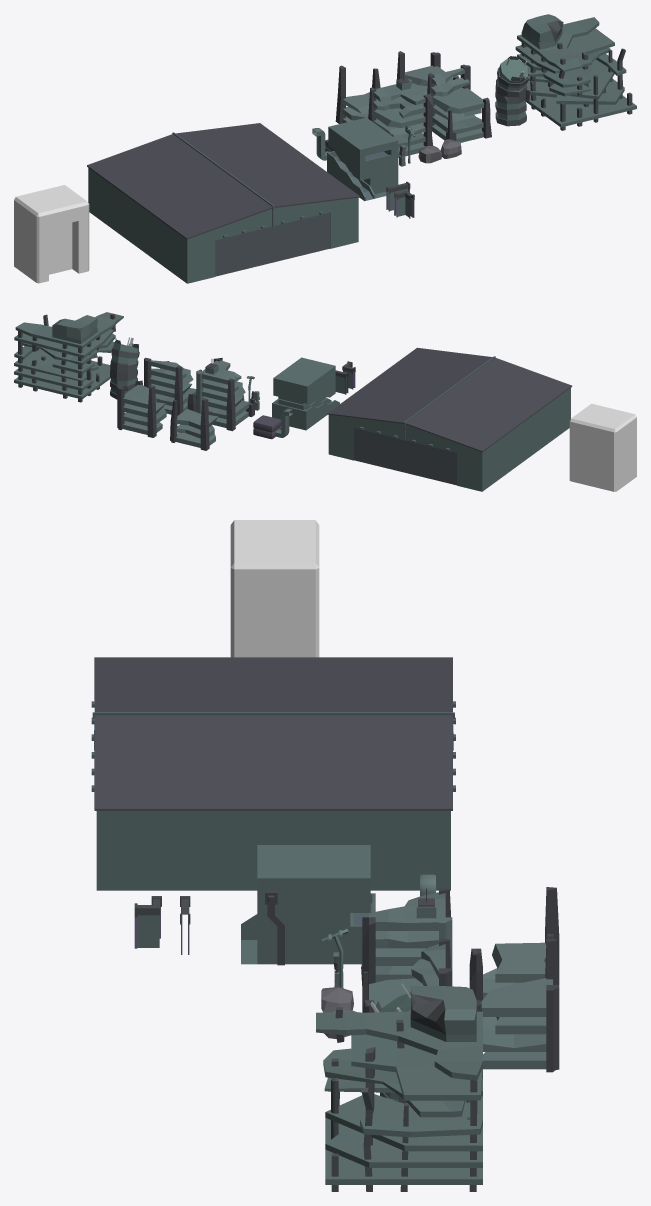
3 views of the same model, one above another, from view 1: azimuth 30°, elevation 25°; view 2: azimuth 150°, elevation 25°; view 3: azimuth 270°, elevation 25° (orthographic). The views are drawn at different scales.
Visible parts, largest first — view 1: Hangar, BreakBuilding_6, Cube, Bunker, BreakBuilding_2, BreakBuilding_3, BreakBuilding_5, BreakBuilding_0, BreakBuilding_1, Wall_0_Snap, Ventilator; view 2: Hangar, BreakBuilding_6, Cube, Bunker, BreakBuilding_3, BreakBuilding_1, BreakBuilding_2, BreakBuilding_0, BreakBuilding_5, Ventilator, Wall_0_Straight; view 3: Hangar, BreakBuilding_6, Bunker, Cube, BreakBuilding_1, BreakBuilding_3, BreakBuilding_0, BreakBuilding_2, Wall_0_Snap.
Part boxes in pixels (x1,y1,x2,y2): Hangar: [87, 123, 359, 283]; BreakBuilding_6: [515, 14, 636, 130]; Cube: [14, 185, 89, 283]; Bunker: [327, 117, 398, 201]; BreakBuilding_2: [427, 64, 491, 142]; BreakBuilding_3: [368, 73, 433, 157]; BreakBuilding_5: [495, 56, 530, 126]; BreakBuilding_0: [335, 65, 380, 123]; BreakBuilding_1: [396, 51, 459, 113]; Wall_0_Snap: [394, 190, 414, 218]; Ventilator: [312, 128, 334, 160]; Hangar: [327, 347, 572, 491]; BreakBuilding_6: [14, 312, 123, 402]; Cube: [569, 403, 636, 491]; Bunker: [272, 357, 339, 430]; BreakBuilding_3: [196, 358, 254, 431]; BreakBuilding_1: [117, 380, 166, 437]; BreakBuilding_2: [144, 357, 201, 415]; BreakBuilding_0: [170, 393, 218, 450]; BreakBuilding_5: [110, 337, 139, 399]; Ventilator: [253, 408, 292, 439]; Wall_0_Straight: [335, 370, 348, 394]; Hangar: [91, 657, 455, 890]; BreakBuilding_6: [316, 986, 482, 1191]; Bunker: [241, 845, 375, 965]; Cube: [230, 520, 319, 657]; BreakBuilding_1: [476, 938, 559, 1072]; BreakBuilding_3: [361, 887, 452, 1006]; BreakBuilding_0: [469, 887, 559, 1001]; BreakBuilding_2: [362, 938, 452, 1012]; Wall_0_Snap: [134, 896, 161, 948].
Size of the model in its own units: 2933 by 365 by 1056.
